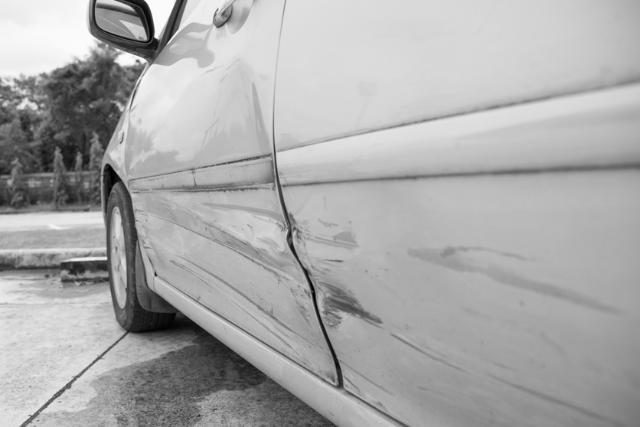Door: (288, 200, 640, 427), (124, 95, 343, 393)
